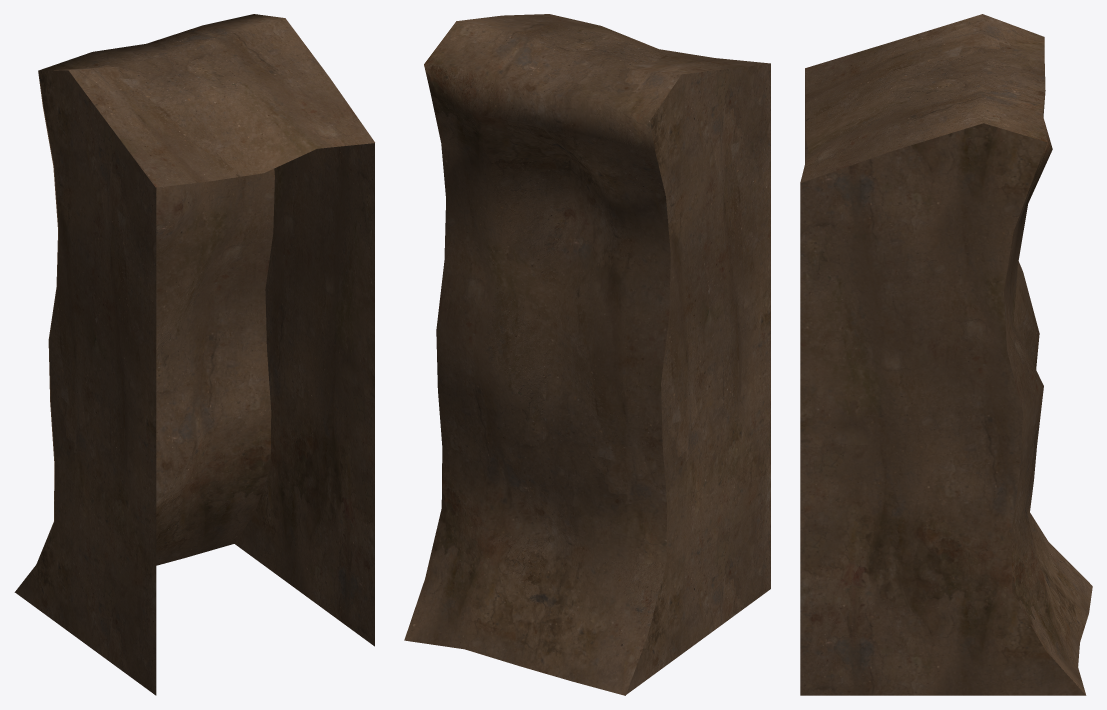
File: S7U_EarthBank_1m_B_LOD1.fbx
The picture shows the model from 3 angles, left to right: view 1: azimuth 30°, elevation 25°; view 2: azimuth 150°, elevation 25°; view 3: azimuth 270°, elevation 25°; orthographic projection. The views are drawn at different scales.
Parts seen in each view (by area): view 1: S7U_EarthBank_1m_B_LOD1; view 2: S7U_EarthBank_1m_B_LOD1; view 3: S7U_EarthBank_1m_B_LOD1.
Boxes of the visible parts, bbox=[...] form: S7U_EarthBank_1m_B_LOD1: bbox=[14, 14, 374, 695]; S7U_EarthBank_1m_B_LOD1: bbox=[404, 14, 770, 695]; S7U_EarthBank_1m_B_LOD1: bbox=[800, 14, 1092, 695].
Size of the model in its own units: 1 by 2.48 by 1.14.
